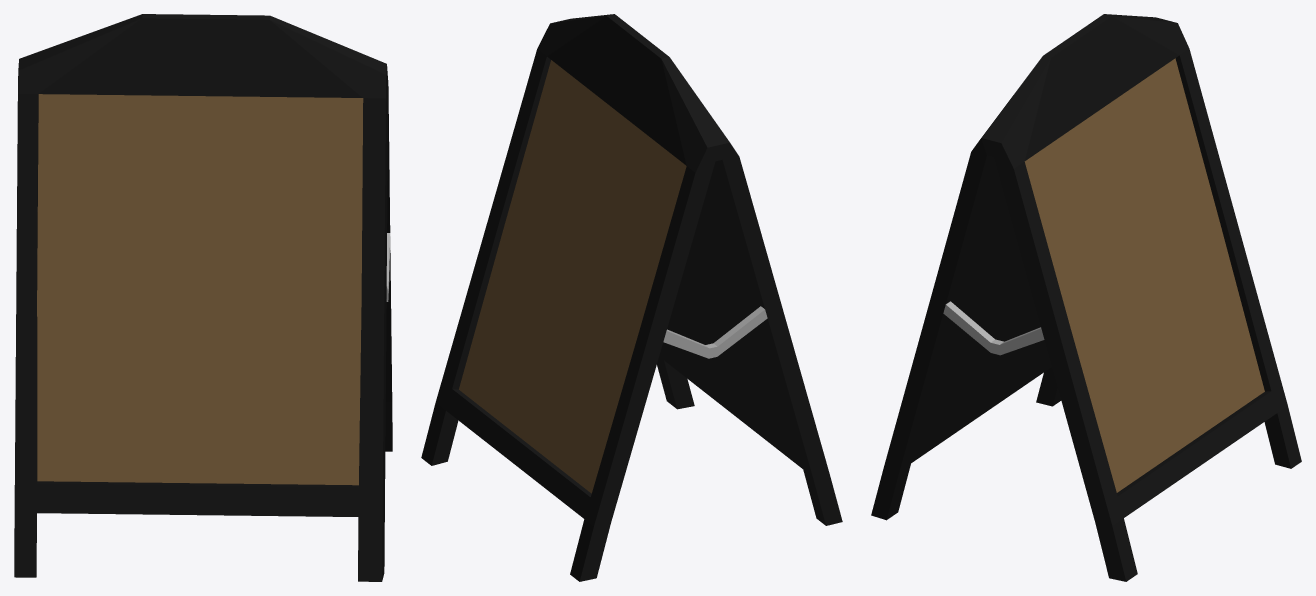
The model's file is Donuts Add.fbx.
The picture shows the model from 3 angles, left to right: view 1: azimuth 30°, elevation 25°; view 2: azimuth 150°, elevation 25°; view 3: azimuth 270°, elevation 25°; orthographic projection. The views are drawn at different scales.
Visible parts, largest first — view 1: Donuts Add; view 2: Donuts Add; view 3: Donuts Add.
Boxes of the visible parts, x1,y1,x2,y2 form: Donuts Add: (14,14,392,581); Donuts Add: (421,14,842,581); Donuts Add: (871,14,1301,581).
Size of the model in its own units: 149 by 145 by 168.
